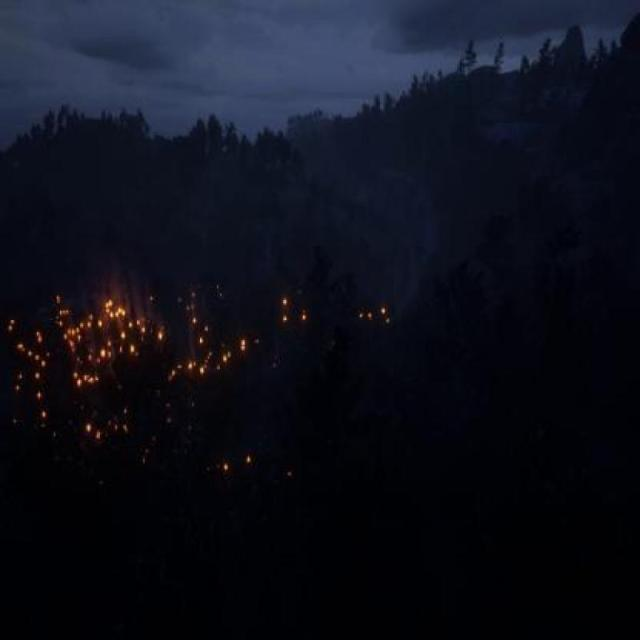Fire: (0, 266, 397, 506)
